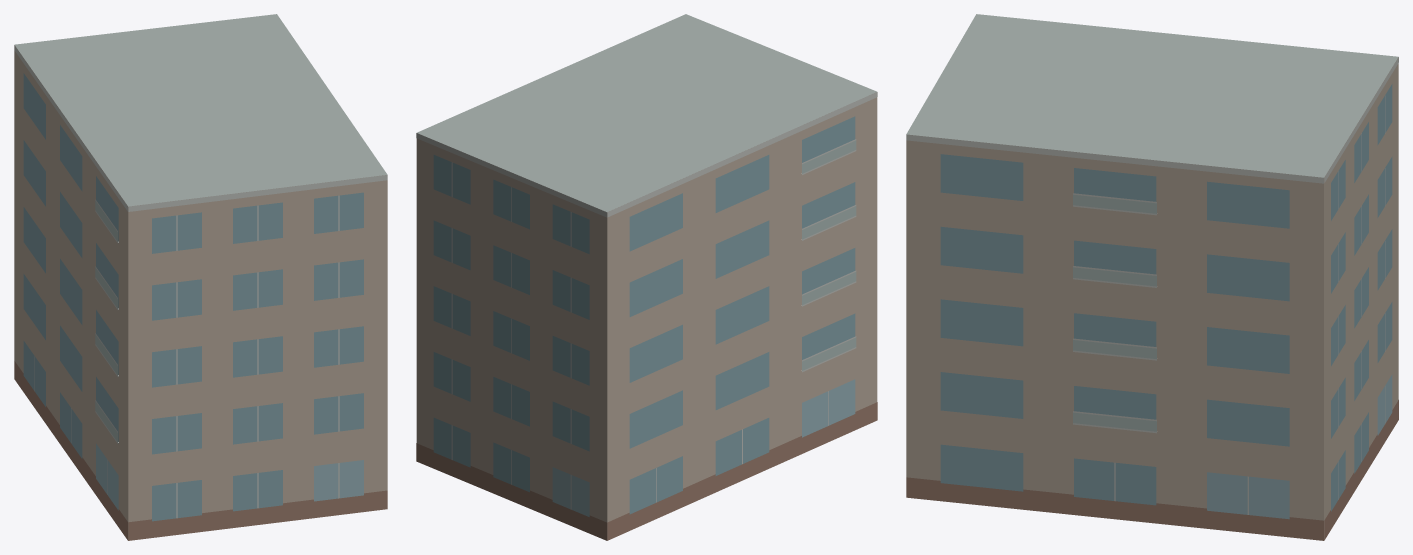
Rendered from survey-upis-32978052.glb.
The picture shows the model from 3 angles, left to right: view 1: azimuth 30°, elevation 25°; view 2: azimuth 150°, elevation 25°; view 3: azimuth 270°, elevation 25°; orthographic projection. The views are drawn at different scales.
Visible parts, largest first — view 1: survey-upis-32978052.tmp; view 2: survey-upis-32978052.tmp; view 3: survey-upis-32978052.tmp.
Part boxes in pixels (x1,y1,x2,y2): survey-upis-32978052.tmp: (14, 14, 387, 540); survey-upis-32978052.tmp: (416, 14, 877, 540); survey-upis-32978052.tmp: (906, 14, 1398, 540).
Size of the model in its own units: 14.42 by 14.9 by 18.33.
